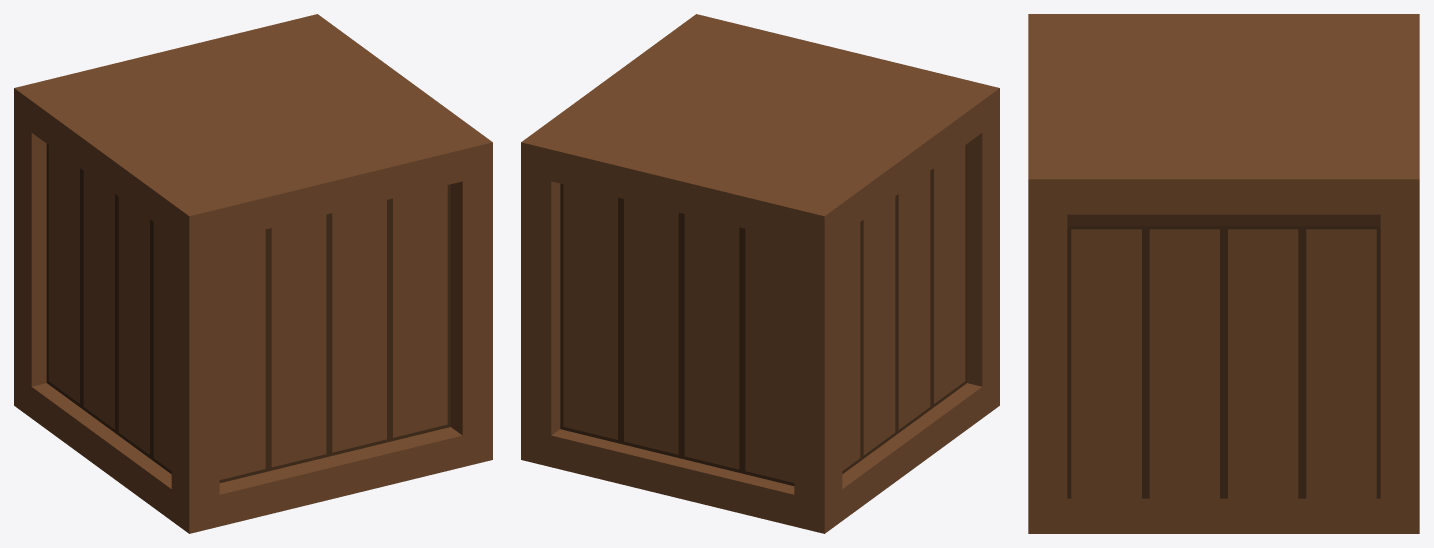
File: Crate.fbx
The picture shows the model from 3 angles, left to right: view 1: azimuth 30°, elevation 25°; view 2: azimuth 150°, elevation 25°; view 3: azimuth 270°, elevation 25°; orthographic projection. The views are drawn at different scales.
Visible parts, largest first — view 1: Crate; view 2: Crate; view 3: Crate.
Boxes of the visible parts, x1,y1,x2,y2 form: Crate: (14,14,492,533); Crate: (521,14,999,533); Crate: (1028,14,1419,533).
Bounding box in the file's own units: 200 × 200 × 200.
